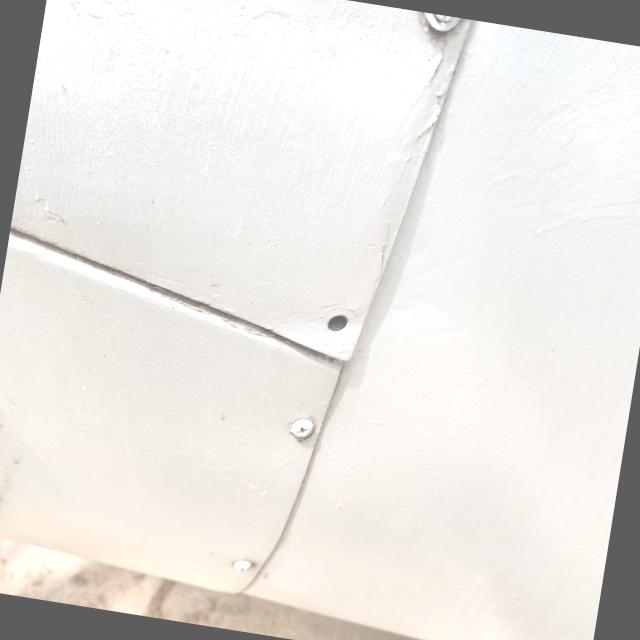Missing Fastener: (326, 312, 350, 333)
